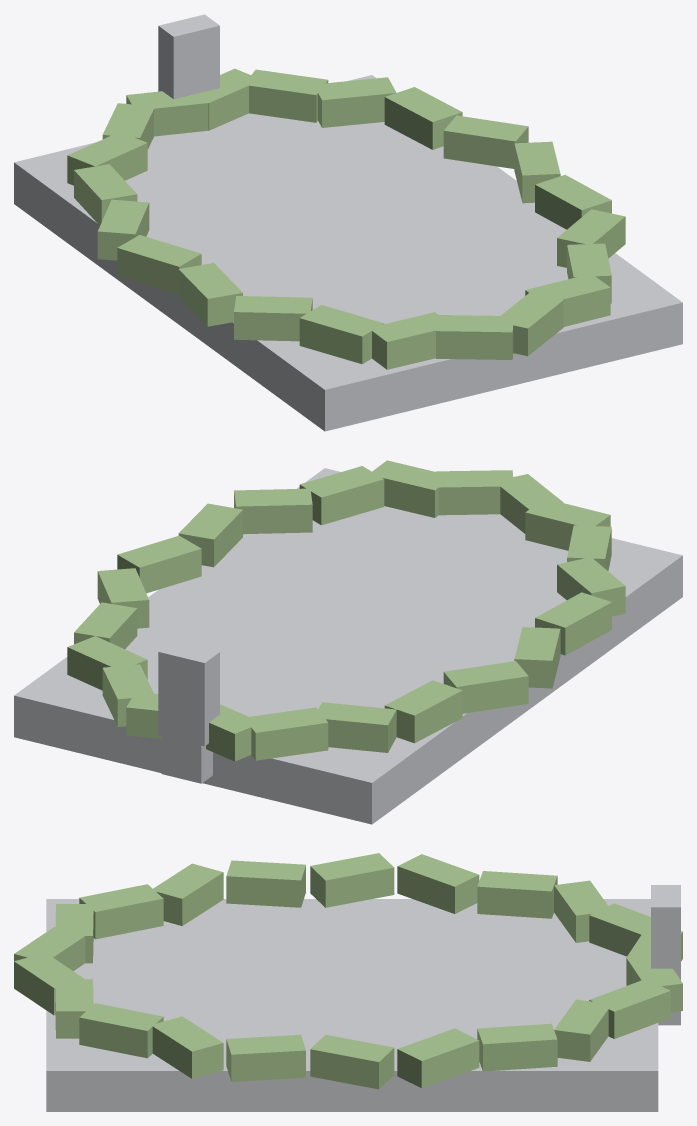
Rendered from coroa_elfica.glb.
3 views of the same model, one above another, from view 1: azimuth 30°, elevation 25°; view 2: azimuth 150°, elevation 25°; view 3: azimuth 270°, elevation 25° (orthographic).
Visible parts, largest first — view 1: coroa_elfica; view 2: coroa_elfica; view 3: coroa_elfica.
Part boxes in pixels (x1,y1,x2,y2): coroa_elfica: (14,14,682,431); coroa_elfica: (14,460,682,824); coroa_elfica: (14,853,682,1111).
Bounding box in the file's own units: 0.6564 × 0.19 × 0.8872.
